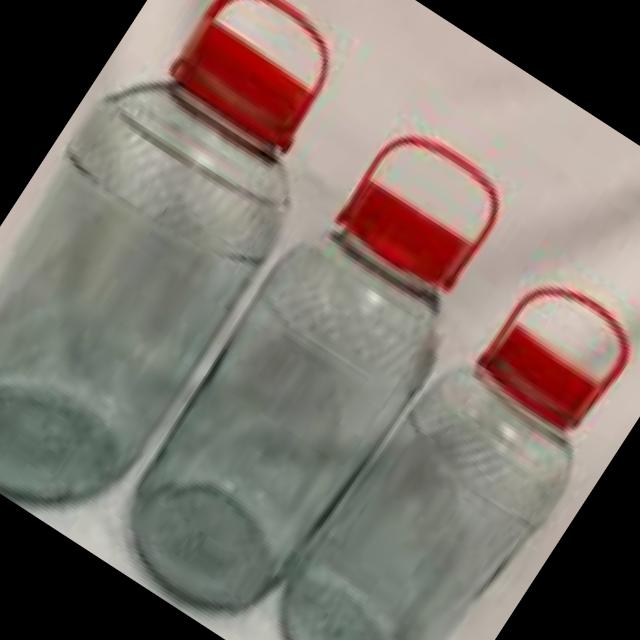ToplesKaca: (91, 95, 544, 640), (0, 0, 395, 545), (259, 244, 640, 640)
